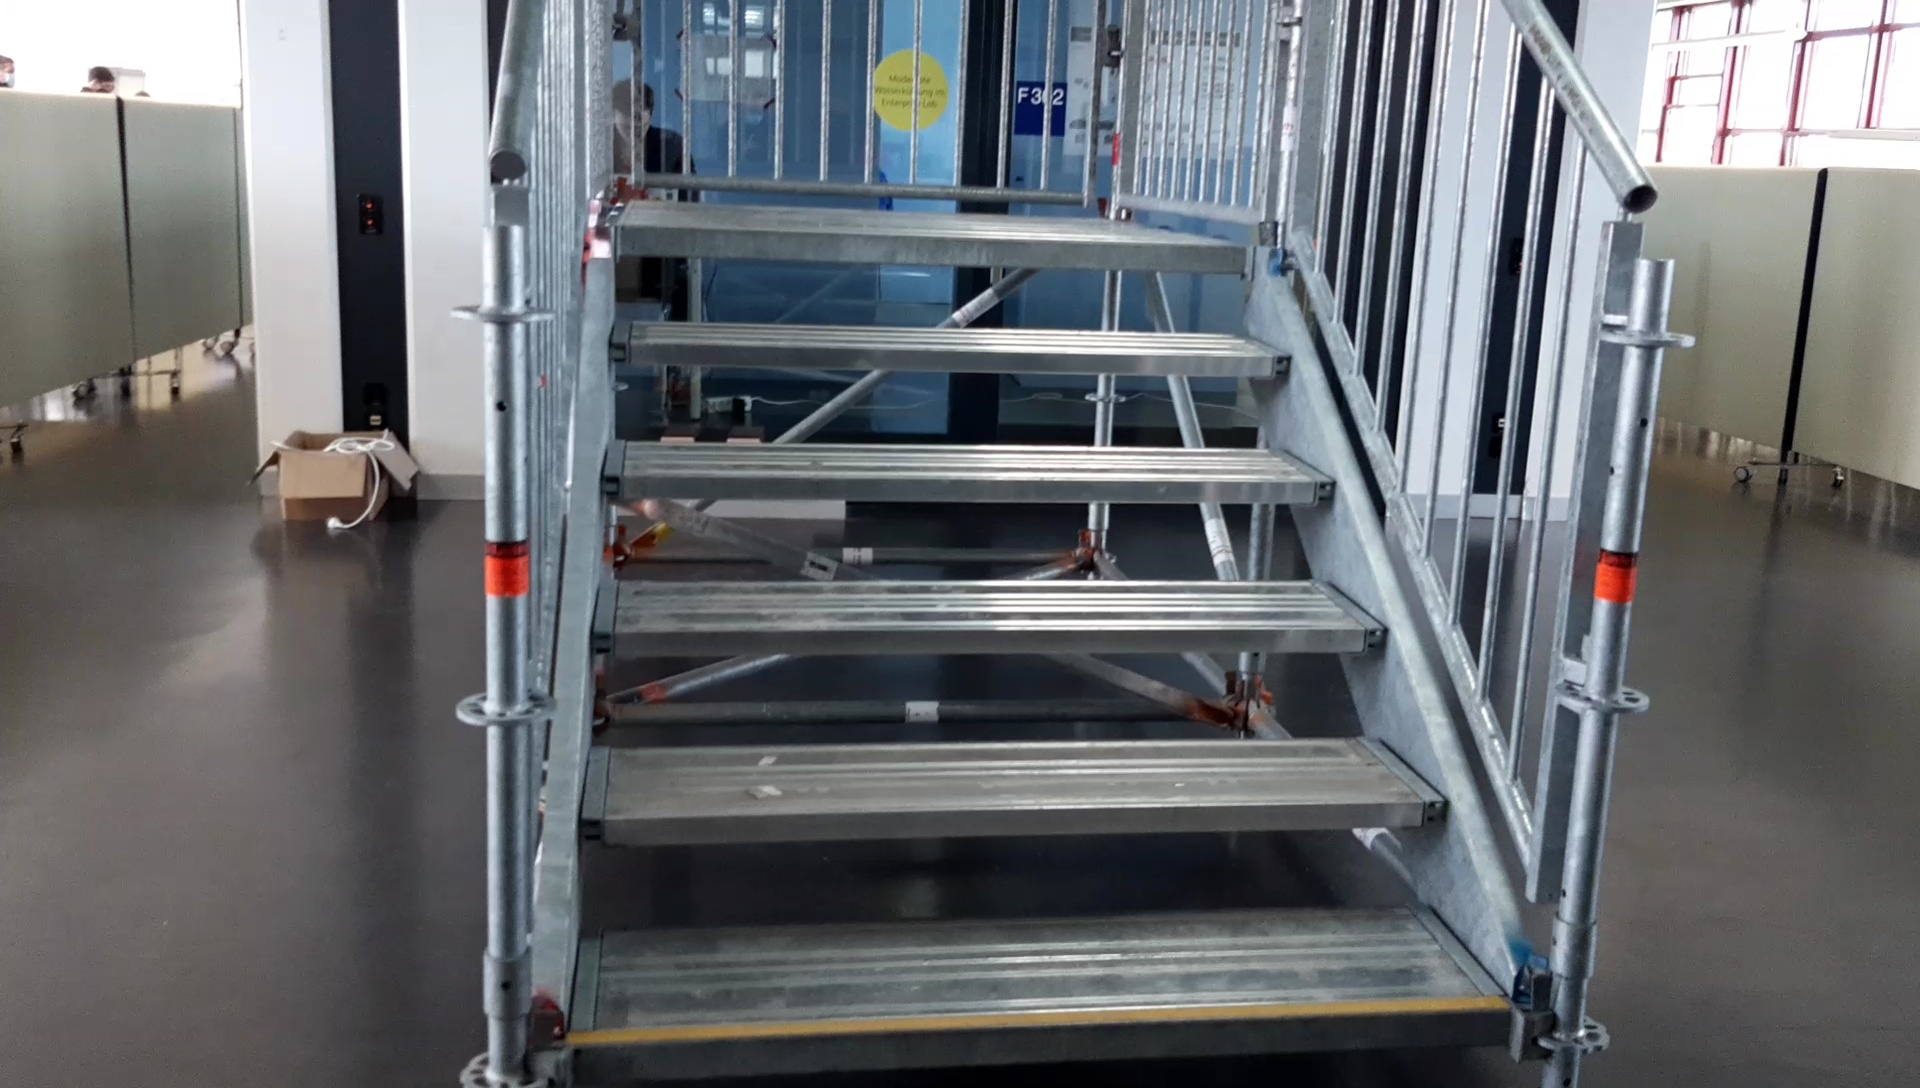edge: (575, 1008, 1507, 1073), (578, 798, 1448, 839), (617, 222, 1250, 273), (608, 340, 1290, 377), (600, 473, 1336, 502), (589, 628, 1385, 653)
stairs: (447, 3, 1698, 1085)
steps: (567, 212, 1518, 1085)
